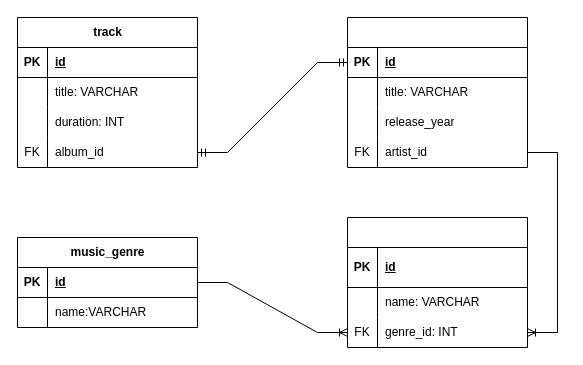
Some shapes in this 583 by 365 pixel diagram are drawn without their labels. The box of each missing label's shape, as (x1, y1, x2, y2) in pixels:
album: (346, 16, 528, 168)
artist: (346, 216, 528, 348)
